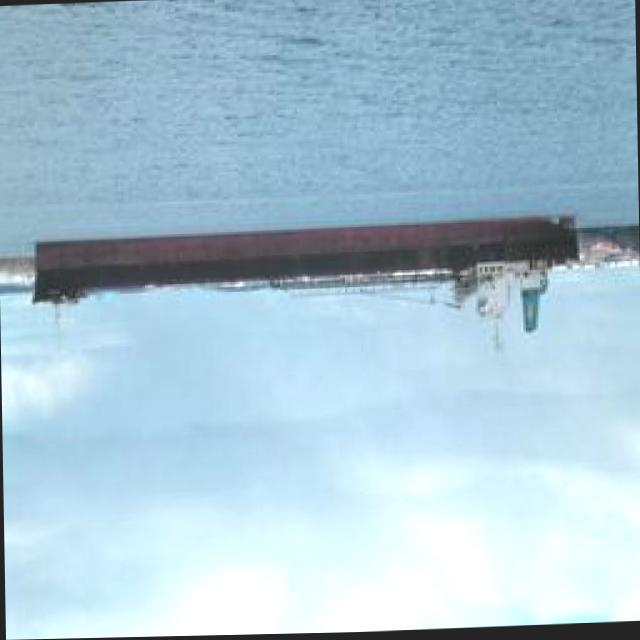ship2: (30, 218, 581, 353)
